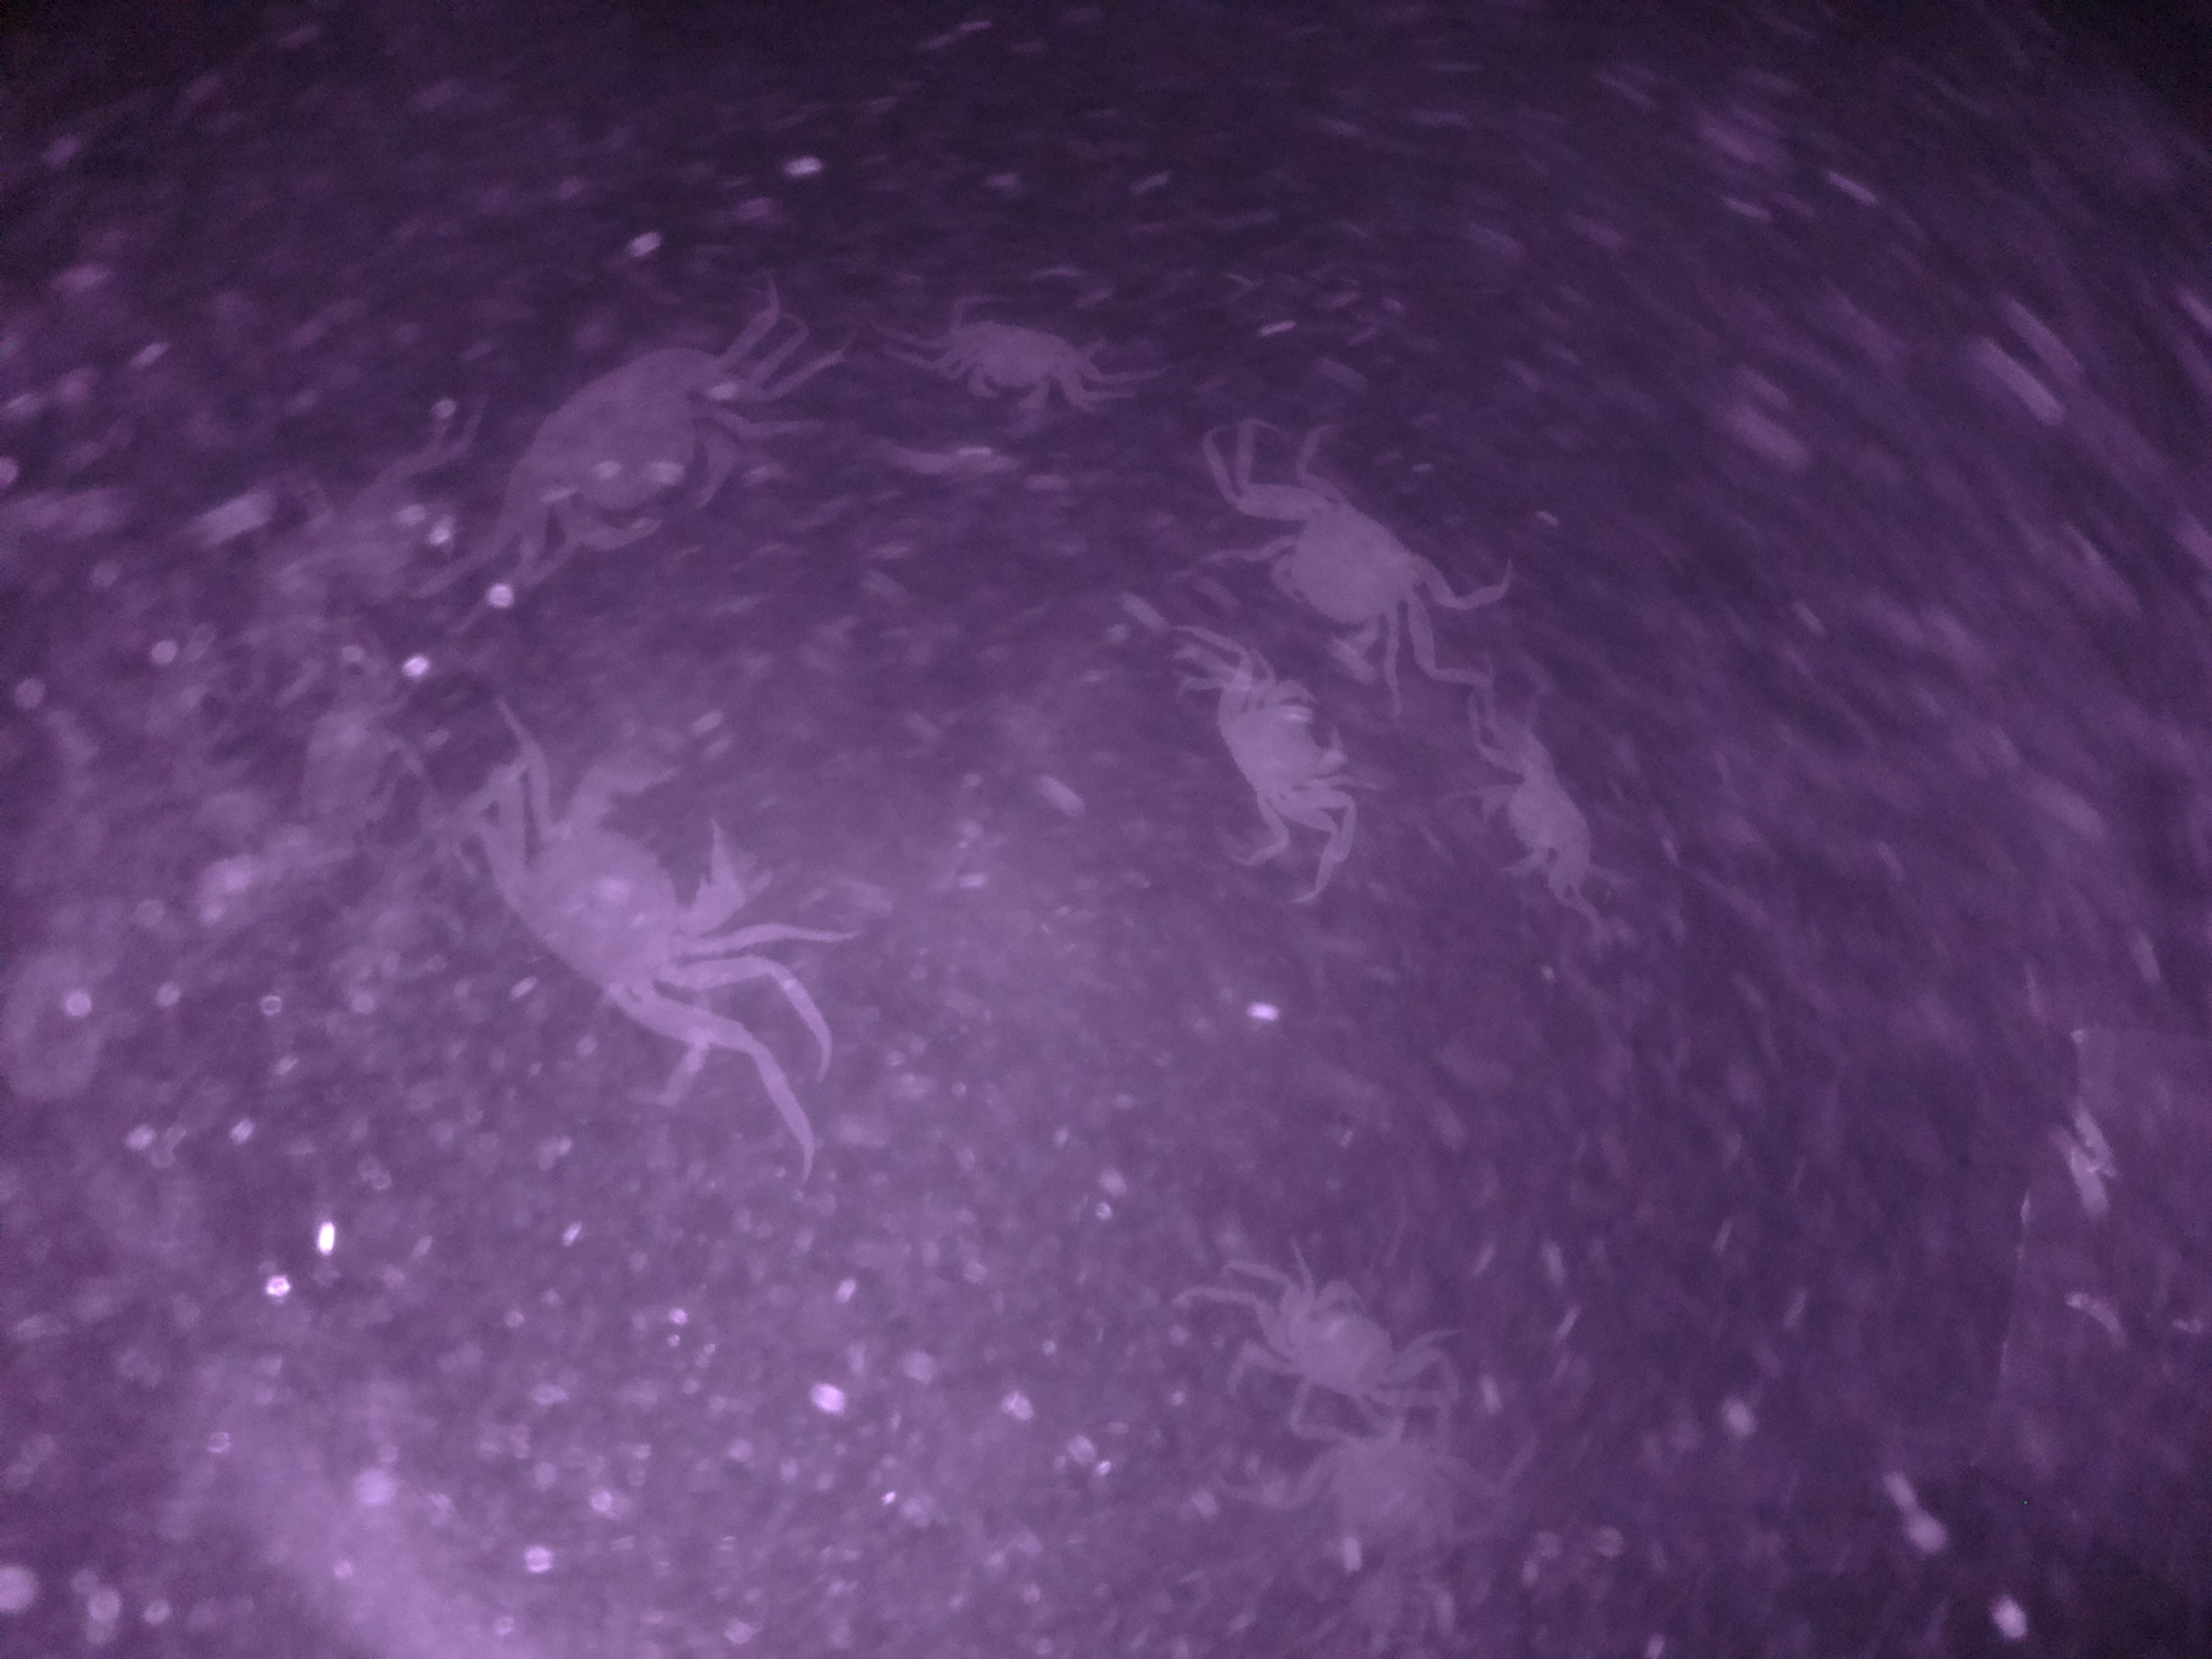Crab: (489, 720, 770, 1066), (502, 326, 761, 575), (1252, 451, 1460, 659), (1254, 1255, 1446, 1422), (1204, 664, 1359, 833), (932, 291, 1099, 423), (1468, 742, 1613, 892)
